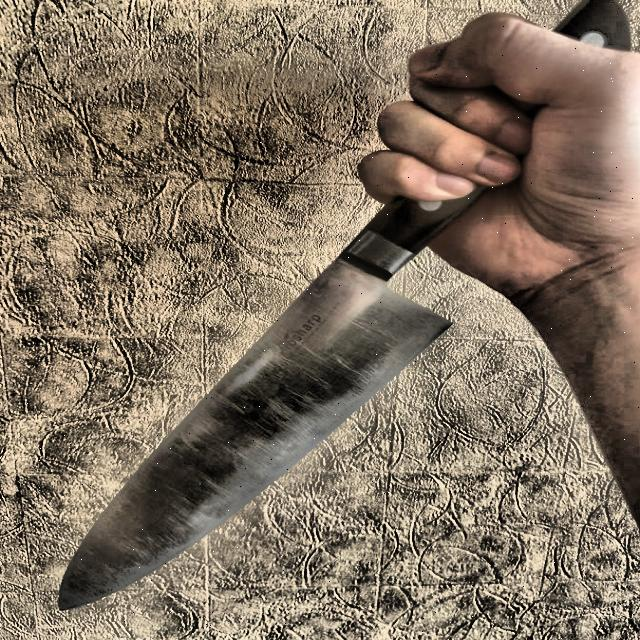knife: (54, 0, 632, 617)
